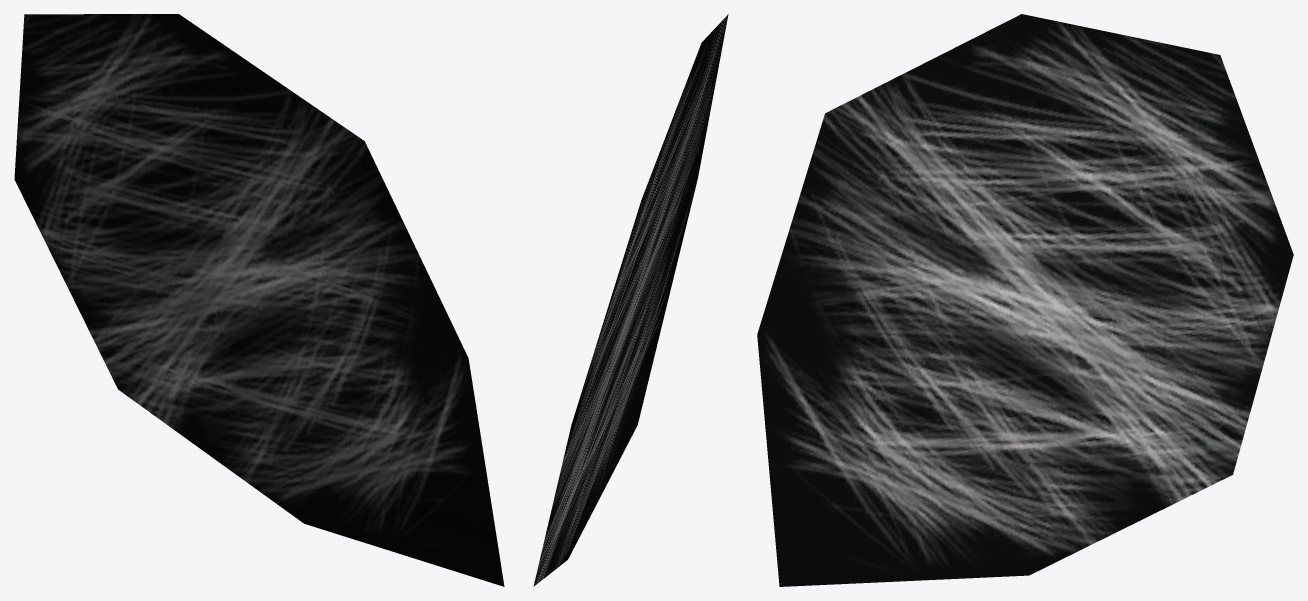
The model's file is MIRKWOOD_SPIDERWEB_COVERS11.fbx.
3 renders of one model, left to right at view 1: azimuth 30°, elevation 25°; view 2: azimuth 150°, elevation 25°; view 3: azimuth 270°, elevation 25°, orthographic. The views are drawn at different scales.
Visible parts, largest first — view 1: MIRKWOOD_SPIDERWEB_COVERS11; view 2: MIRKWOOD_SPIDERWEB_COVERS11; view 3: MIRKWOOD_SPIDERWEB_COVERS11.
Part boxes in pixels (left/top/right/bottom): MIRKWOOD_SPIDERWEB_COVERS11: left=14, top=14, right=504, bottom=586; MIRKWOOD_SPIDERWEB_COVERS11: left=533, top=14, right=728, bottom=586; MIRKWOOD_SPIDERWEB_COVERS11: left=757, top=14, right=1293, bottom=586.
Size of the model in its own units: 19140 by 41161 by 39777.
Materials: 1 (1 with a texture image).
